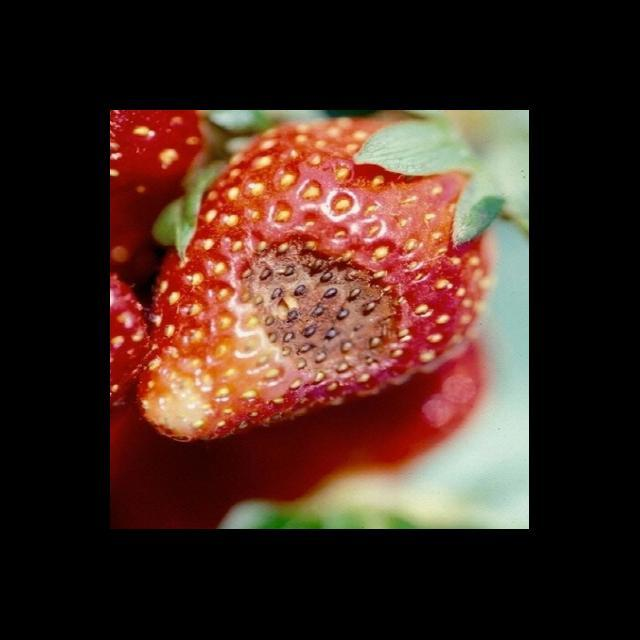Anthracnose Fruit Rot: (230, 229, 417, 380)
